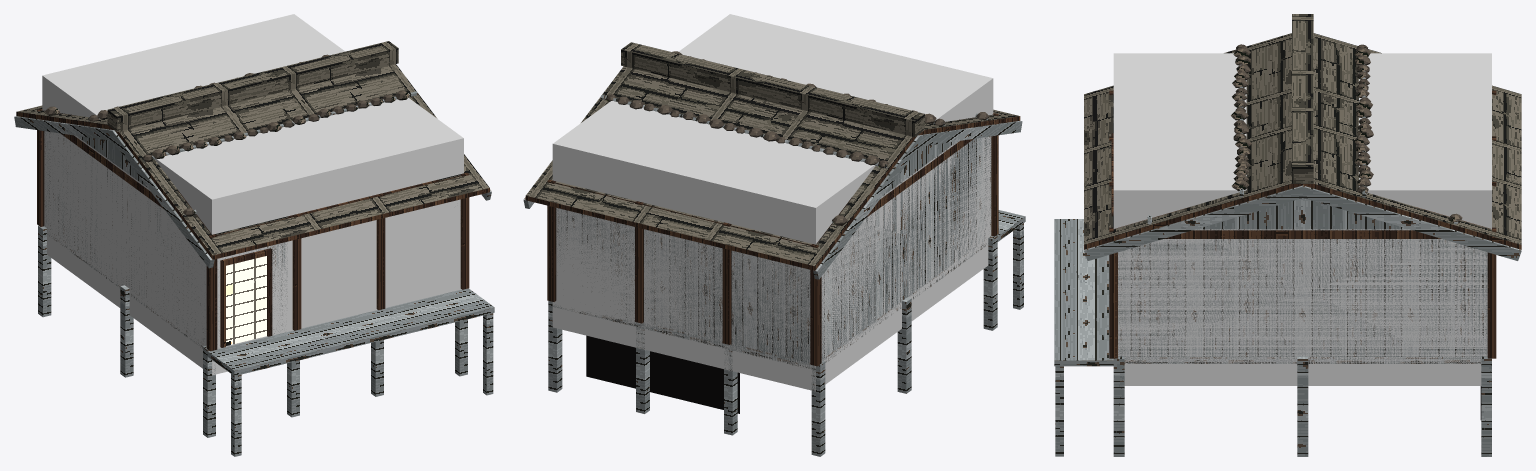
Rendered from JP_Poor_Boathouse_A.glb.
The picture shows the model from 3 angles, left to right: view 1: azimuth 30°, elevation 25°; view 2: azimuth 150°, elevation 25°; view 3: azimuth 270°, elevation 25°; orthographic projection. The views are drawn at different scales.
Visible parts, largest first — view 1: COL_JP_Poor_Boathouse_A, JP_Poor_Boathouse_A; view 2: COL_JP_Poor_Boathouse_A, JP_Poor_Boathouse_A; view 3: COL_JP_Poor_Boathouse_A, JP_Poor_Boathouse_A.
Boxes of the visible parts, x1,y1,x2,y2 form: COL_JP_Poor_Boathouse_A: (42, 14, 463, 375); JP_Poor_Boathouse_A: (14, 41, 494, 456); COL_JP_Poor_Boathouse_A: (552, 14, 993, 391); JP_Poor_Boathouse_A: (523, 42, 1025, 456); COL_JP_Poor_Boathouse_A: (1113, 53, 1491, 385); JP_Poor_Boathouse_A: (1054, 14, 1521, 456).
Bounding box in the file's own units: 6.7 × 6.04 × 8.65.
7 materials, 7 textured.
